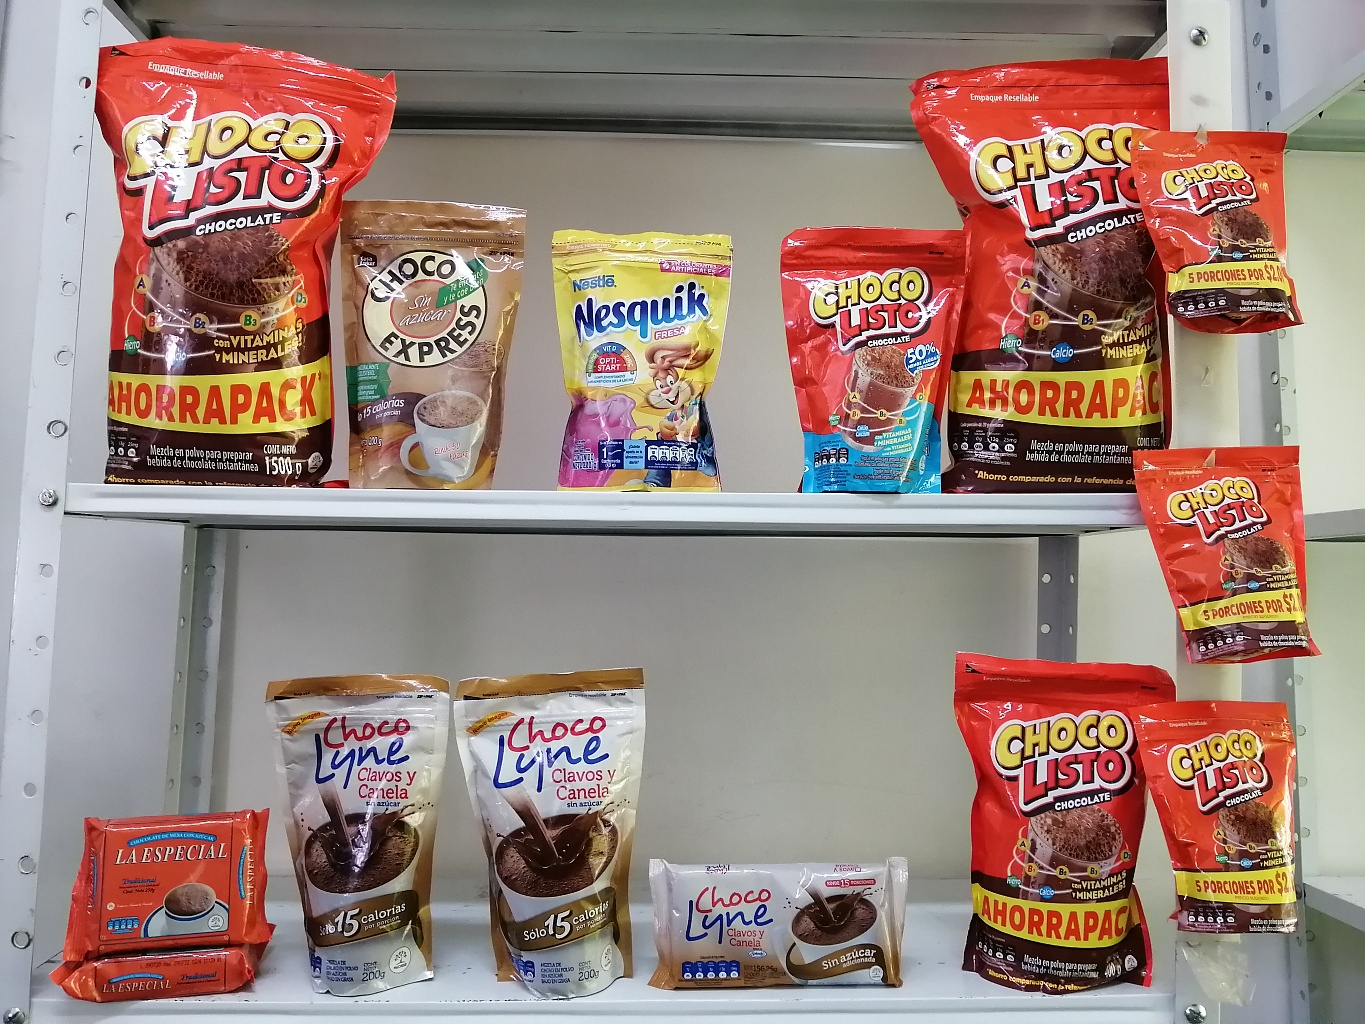COL0170102DYP25000: (234, 513, 358, 701)
COL0170103DYP20000: (472, 253, 584, 432)
COL0170103DYP40000: (504, 756, 638, 989)
COL0170103TRR00100: (229, 768, 344, 980)
COL0170103TRR30000: (407, 826, 512, 987)
COL0170104DYP20000: (145, 0, 278, 189)
COL0170203DYP10000: (582, 33, 679, 181)
COL0170203DYP25000: (915, 248, 1046, 433)
COL0170203DYP50000: (705, 478, 865, 701)
COL0170205DYP20000: (692, 259, 813, 431)
COL0170303DYP20000: (563, 241, 692, 431)
COL0170305DYP20000: (639, 790, 770, 991)
COL0170306DYP20000: (561, 515, 706, 711)
